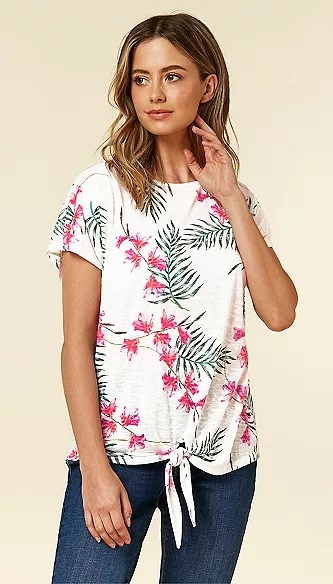C_jeans: (56, 461, 259, 584)
C_short blouse: (39, 163, 277, 539)
